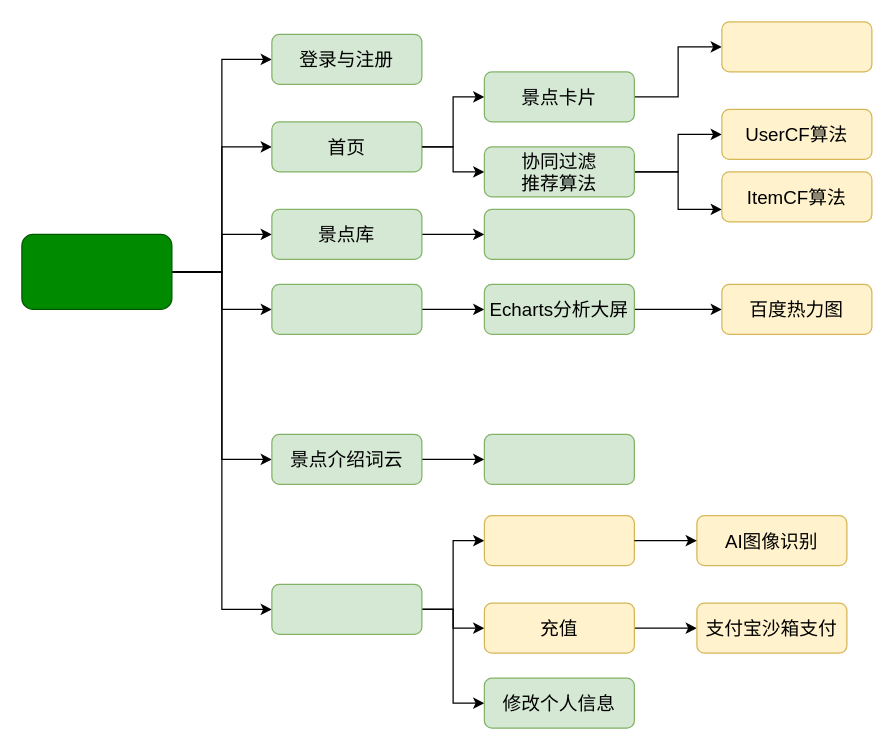
Image size: 894x750. Some labels were removed from this diagram. Here are the shapes that lost their labels. From the top down, the centre of each, then its label:
At pixel 796 46: "百度地图 展示景点位置".
At pixel 558 233: "景点搜索".
At pixel 96 271: "旅游景点大数据 功能模块".
At pixel 346 308: "景点分析".
At pixel 558 458: "词云【椰子树】".
At pixel 558 540: "身份证识别".
At pixel 346 608: "设置".
